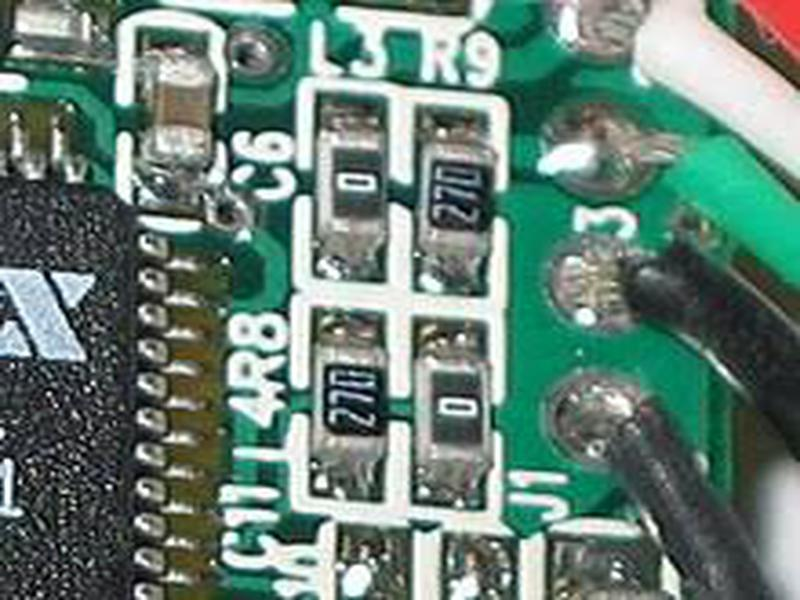SMD resistor: (410, 340, 494, 484), (315, 331, 398, 473), (310, 119, 392, 255), (424, 132, 498, 261)
